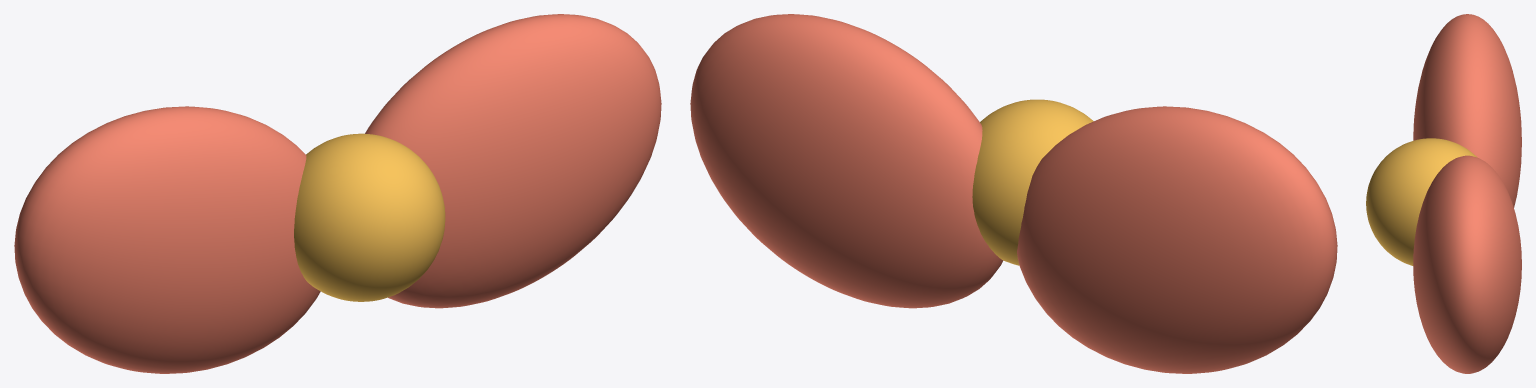
File: accessory-bow.glb
3 renders of one model, left to right at view 1: azimuth 30°, elevation 25°; view 2: azimuth 150°, elevation 25°; view 3: azimuth 270°, elevation 25°, orthographic. The views are drawn at different scales.
Parts seen in each view (by area): view 1: bow-lobe (×2), bow-knot; view 2: bow-lobe (×2), bow-knot; view 3: bow-lobe (×2), bow-knot.
Part boxes in pixels (box(x1,y1,x2,y2)): bow-lobe (×2): box(14, 14, 661, 373); bow-knot: box(294, 133, 445, 301); bow-lobe (×2): box(690, 14, 1337, 373); bow-knot: box(972, 99, 1093, 265); bow-lobe (×2): box(1413, 14, 1521, 373); bow-knot: box(1366, 138, 1477, 265).
Bounding box in the file's own units: 0.7894 × 0.3133 × 0.215.
